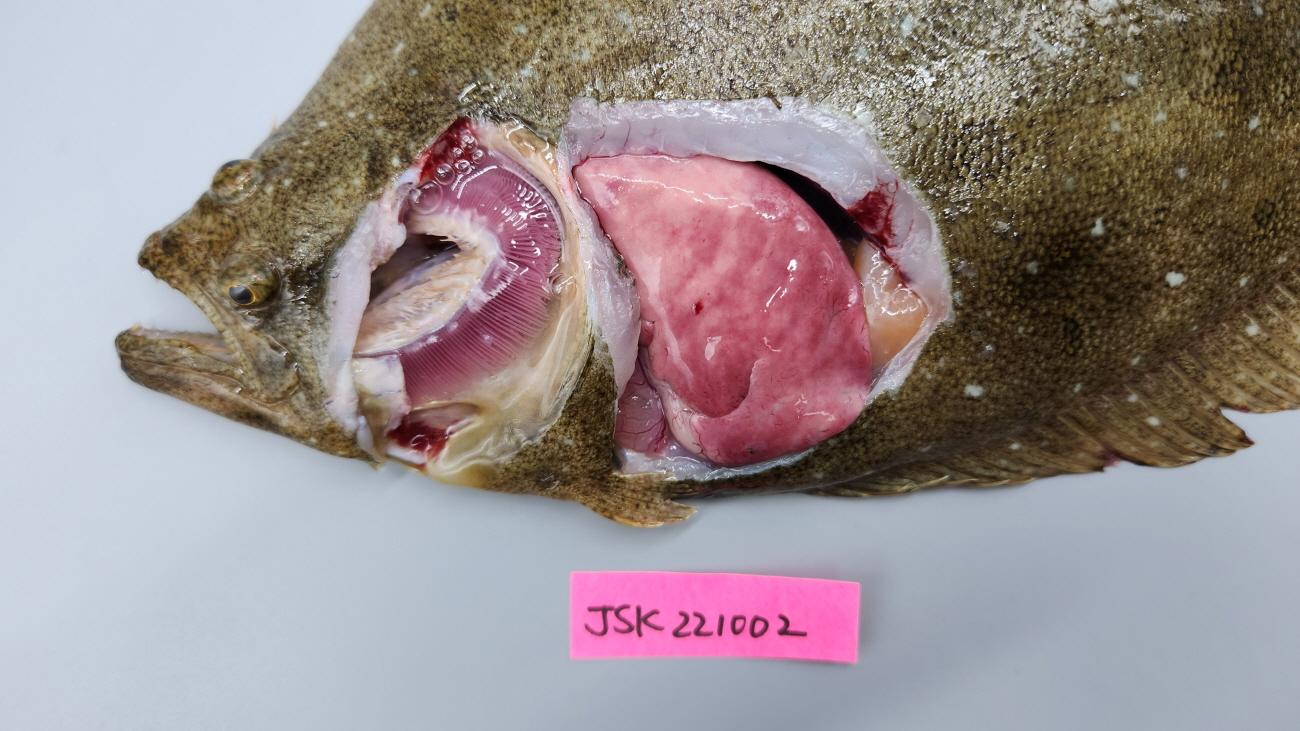VILIC: (651, 162, 861, 452)
